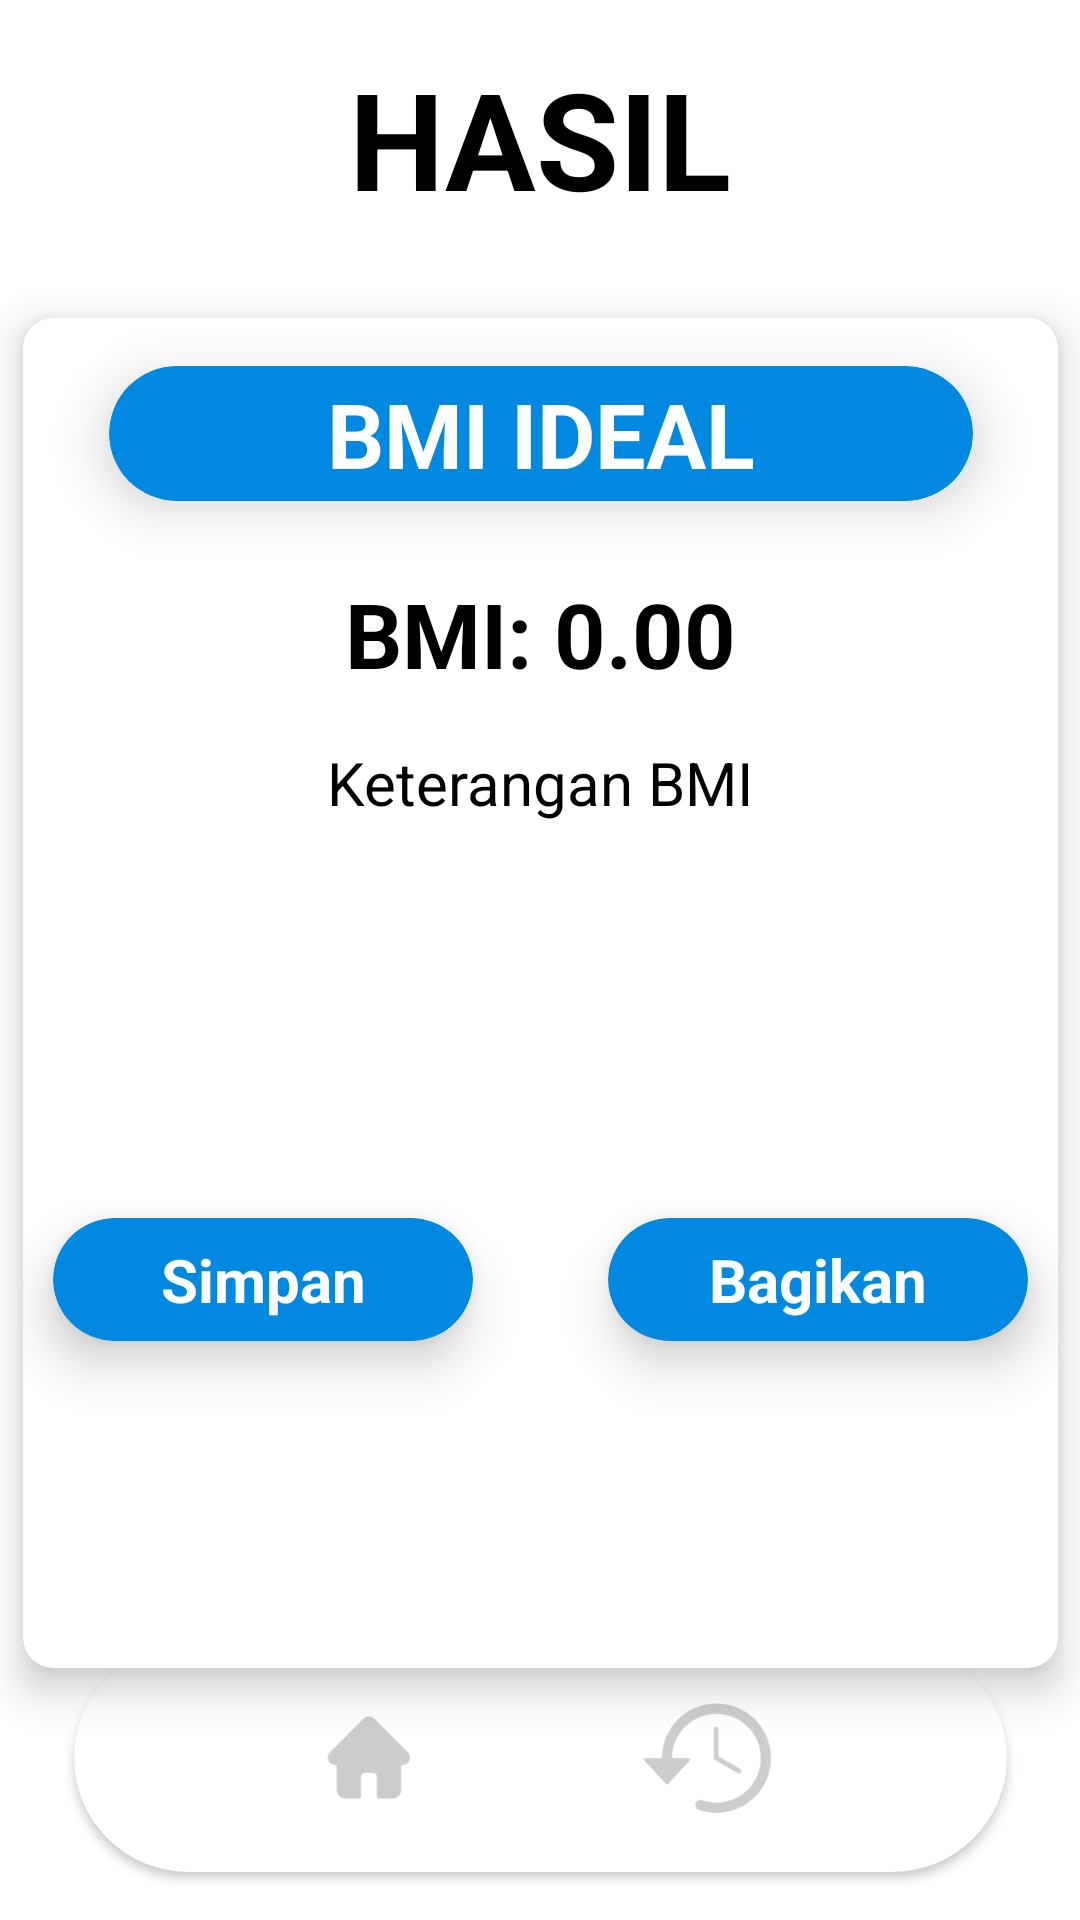

Where to tap for icons on this 1080×1920 app screen, as [x,y]:
Home: [369,1757]
